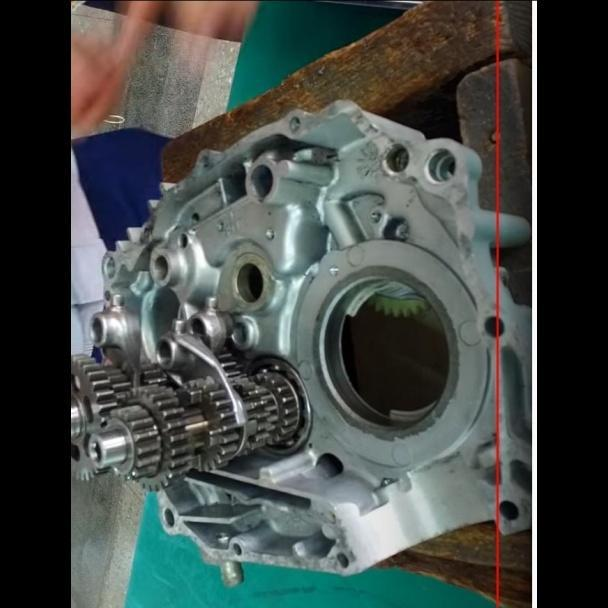hole: (286, 115, 303, 132), (263, 226, 275, 240), (370, 211, 384, 222)
